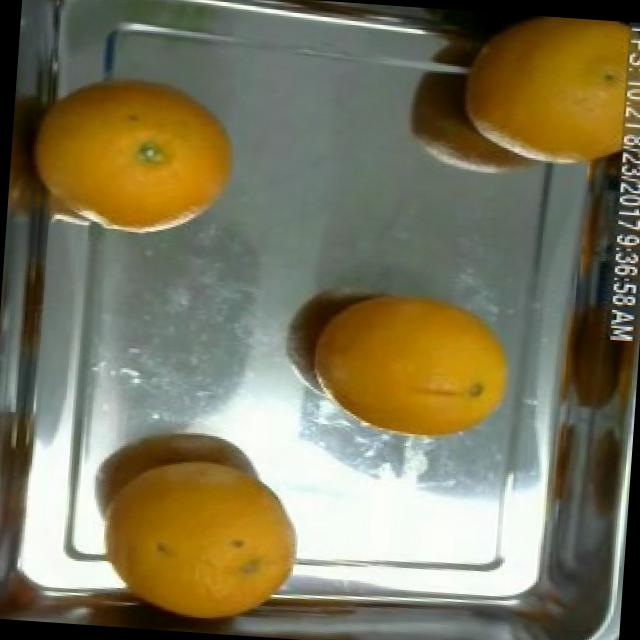Fruit: (43, 57, 253, 246), (314, 272, 528, 454), (443, 9, 640, 178), (385, 60, 499, 180)
